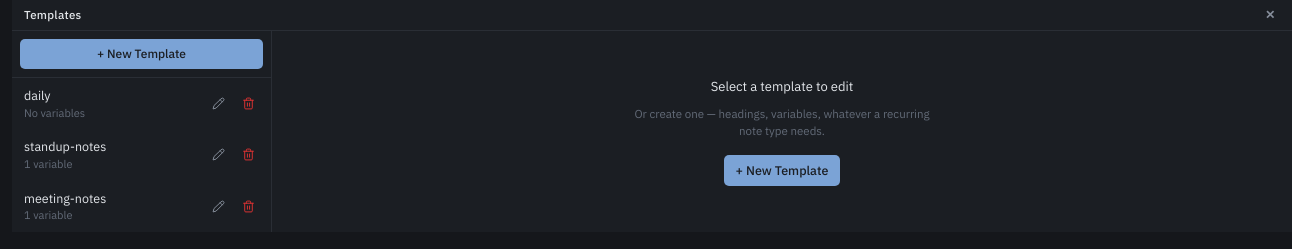
Test: TemplatesScreen (M10.27 Journey A, first-class screen) › cancels an in-progress rename on Escape without changing the name
Expected: the text "meeting-notes" is shown, [24, 190, 106, 206]
Step 1. Click the button named "Rename template \"meeting-notes\"" → (218, 206), box [212, 200, 224, 213]
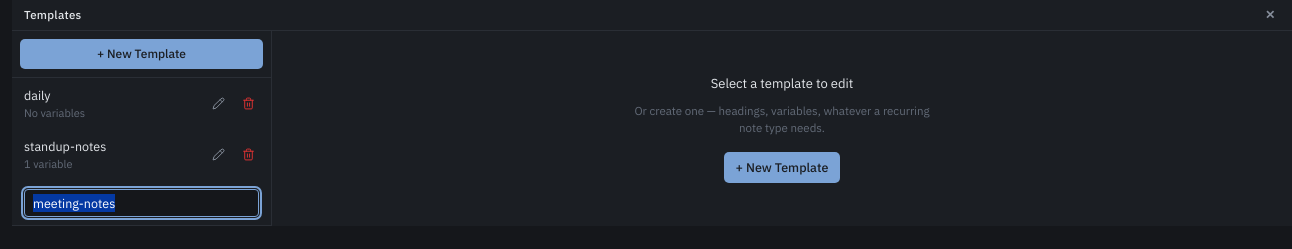
Step 2. Replace the text in the field named "Rename template \"meeting-notes\"" with "Something Else" → (142, 203), box [24, 188, 259, 217]
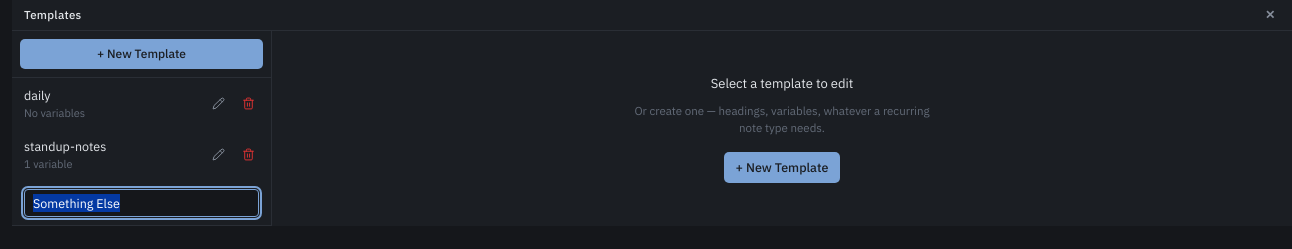
Step 3. Press Escape in the field named "Rename template \"meeting-notes\"", box [24, 188, 259, 217]
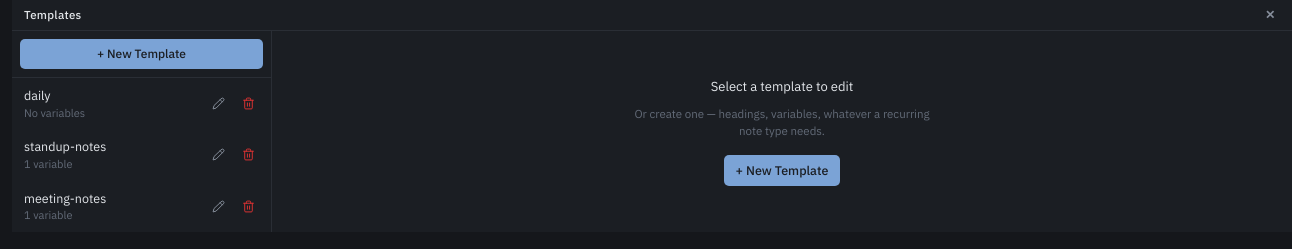
Expected: the text "Something Else" is not shown
Now the text "meeting-notes" is shown, box [24, 190, 106, 206]
